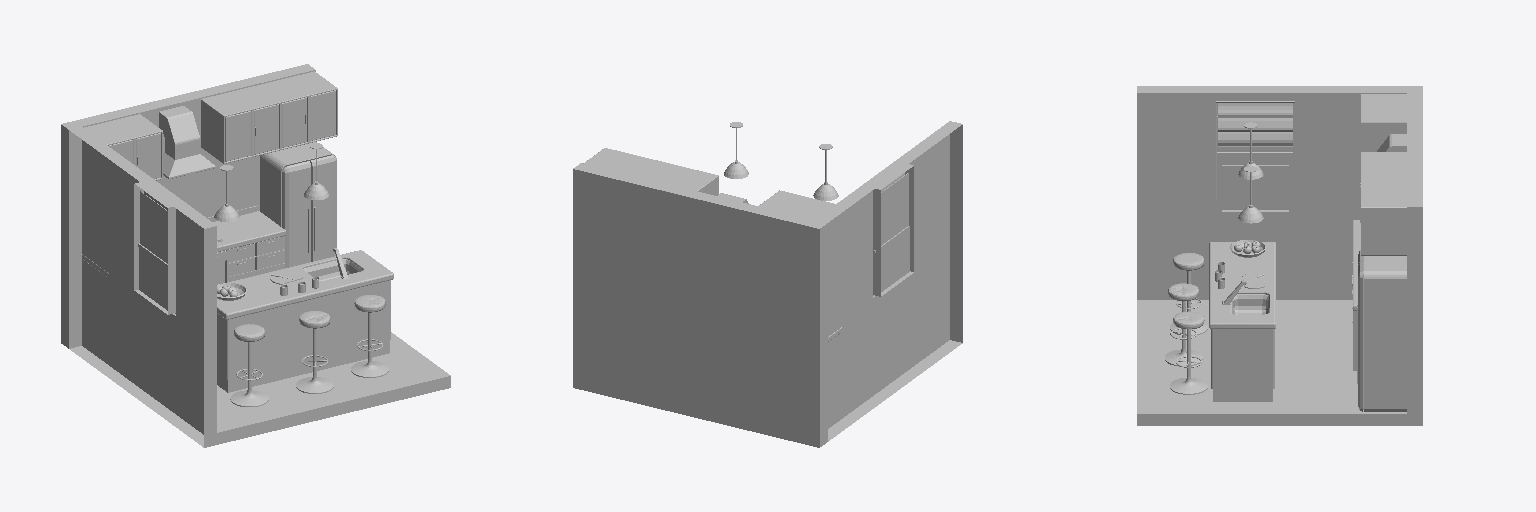
Rendered from kitchen.obj.
3 views of the same model, side by side, from view 1: azimuth 30°, elevation 25°; view 2: azimuth 150°, elevation 25°; view 3: azimuth 270°, elevation 25° (orthographic).
Parts seen in each view (by area): view 1: pCube3 polySurface17 polySurface14, pCube2, pCube15, pCube1, pCube10, pCube19, pCube4 polySurface6, pCube20, pCube18, pCube12, polySurface3 polySurface1 pCube7, polySurface1 pCube7 polySurface4 (+7 smaller); view 2: pCube2, pCube3 polySurface17 polySurface14, pCube3 polySurface14 polySurface18, polySurface15 pCube3, pCube19, pCube3 polySurface16, pCube20, pCube18, pCube1; view 3: pCube3 polySurface17 polySurface14, pCube1, pCube10, pCube2, pCube15, pCube4 polySurface6, pPlane1, pCube20, pCube3 polySurface16, pCube18, pCube19, polySurface5 pCube4 (+4 smaller).
Part boxes in pixels (left/top/right/bottom): pCube3 polySurface17 polySurface14: left=70, top=127, right=216, bottom=447; pCube2: left=61, top=64, right=315, bottom=348; pCube15: left=217, top=280, right=390, bottom=392; pCube1: left=91, top=332, right=450, bottom=444; pCube10: left=260, top=142, right=336, bottom=267; pCube19: left=201, top=85, right=280, bottom=163; pCube4 polySurface6: left=217, top=250, right=393, bottom=319; pCube20: left=258, top=71, right=337, bottom=149; pCube18: left=84, top=114, right=162, bottom=180; pCube12: left=159, top=106, right=215, bottom=178; polySurface3 polySurface1 pCube7: left=225, top=236, right=284, bottom=282; polySurface1 pCube7 polySurface4: left=82, top=211, right=285, bottom=277; pCube2: left=573, top=163, right=827, bottom=447; pCube3 polySurface17 polySurface14: left=812, top=121, right=962, bottom=441; pCube3 polySurface14 polySurface18: left=873, top=164, right=913, bottom=297; polySurface15 pCube3: left=881, top=173, right=908, bottom=245; pCube19: left=640, top=162, right=718, bottom=195; pCube3 polySurface16: left=881, top=229, right=909, bottom=291; pCube20: left=583, top=148, right=661, bottom=176; pCube18: left=759, top=190, right=835, bottom=219; pCube1: left=828, top=328, right=949, bottom=427; pCube3 polySurface17 polySurface14: left=1137, top=86, right=1418, bottom=299; pCube1: left=1137, top=300, right=1406, bottom=425; pCube10: left=1358, top=250, right=1406, bottom=411; pCube2: left=1407, top=86, right=1422, bottom=425; pCube15: left=1211, top=329, right=1274, bottom=401; pCube4 polySurface6: left=1209, top=242, right=1275, bottom=328; pPlane1: left=1217, top=103, right=1292, bottom=151; pCube20: left=1361, top=180, right=1406, bottom=255; pCube3 polySurface16: left=1222, top=168, right=1288, bottom=209; pCube18: left=1361, top=94, right=1406, bottom=151; pCube19: left=1361, top=152, right=1406, bottom=179; polySurface5 pCube4: left=1231, top=294, right=1268, bottom=314.
Bounding box in the file's own units: 17.97 × 15.24 × 18.09.